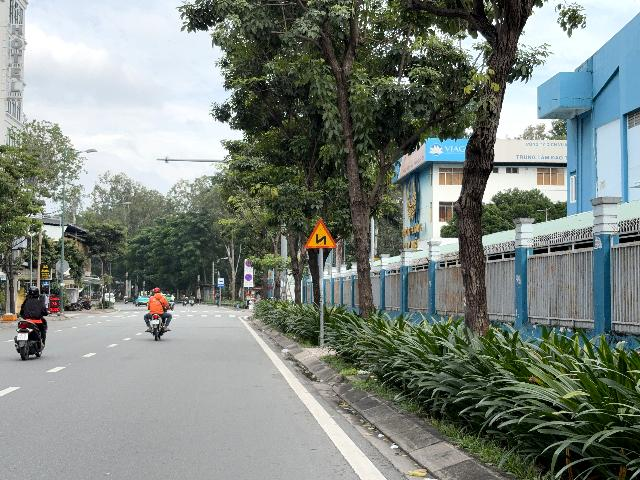nhieu-cho-ngoat-nguy-hiem-lien-tiep: (304, 218, 337, 248)
